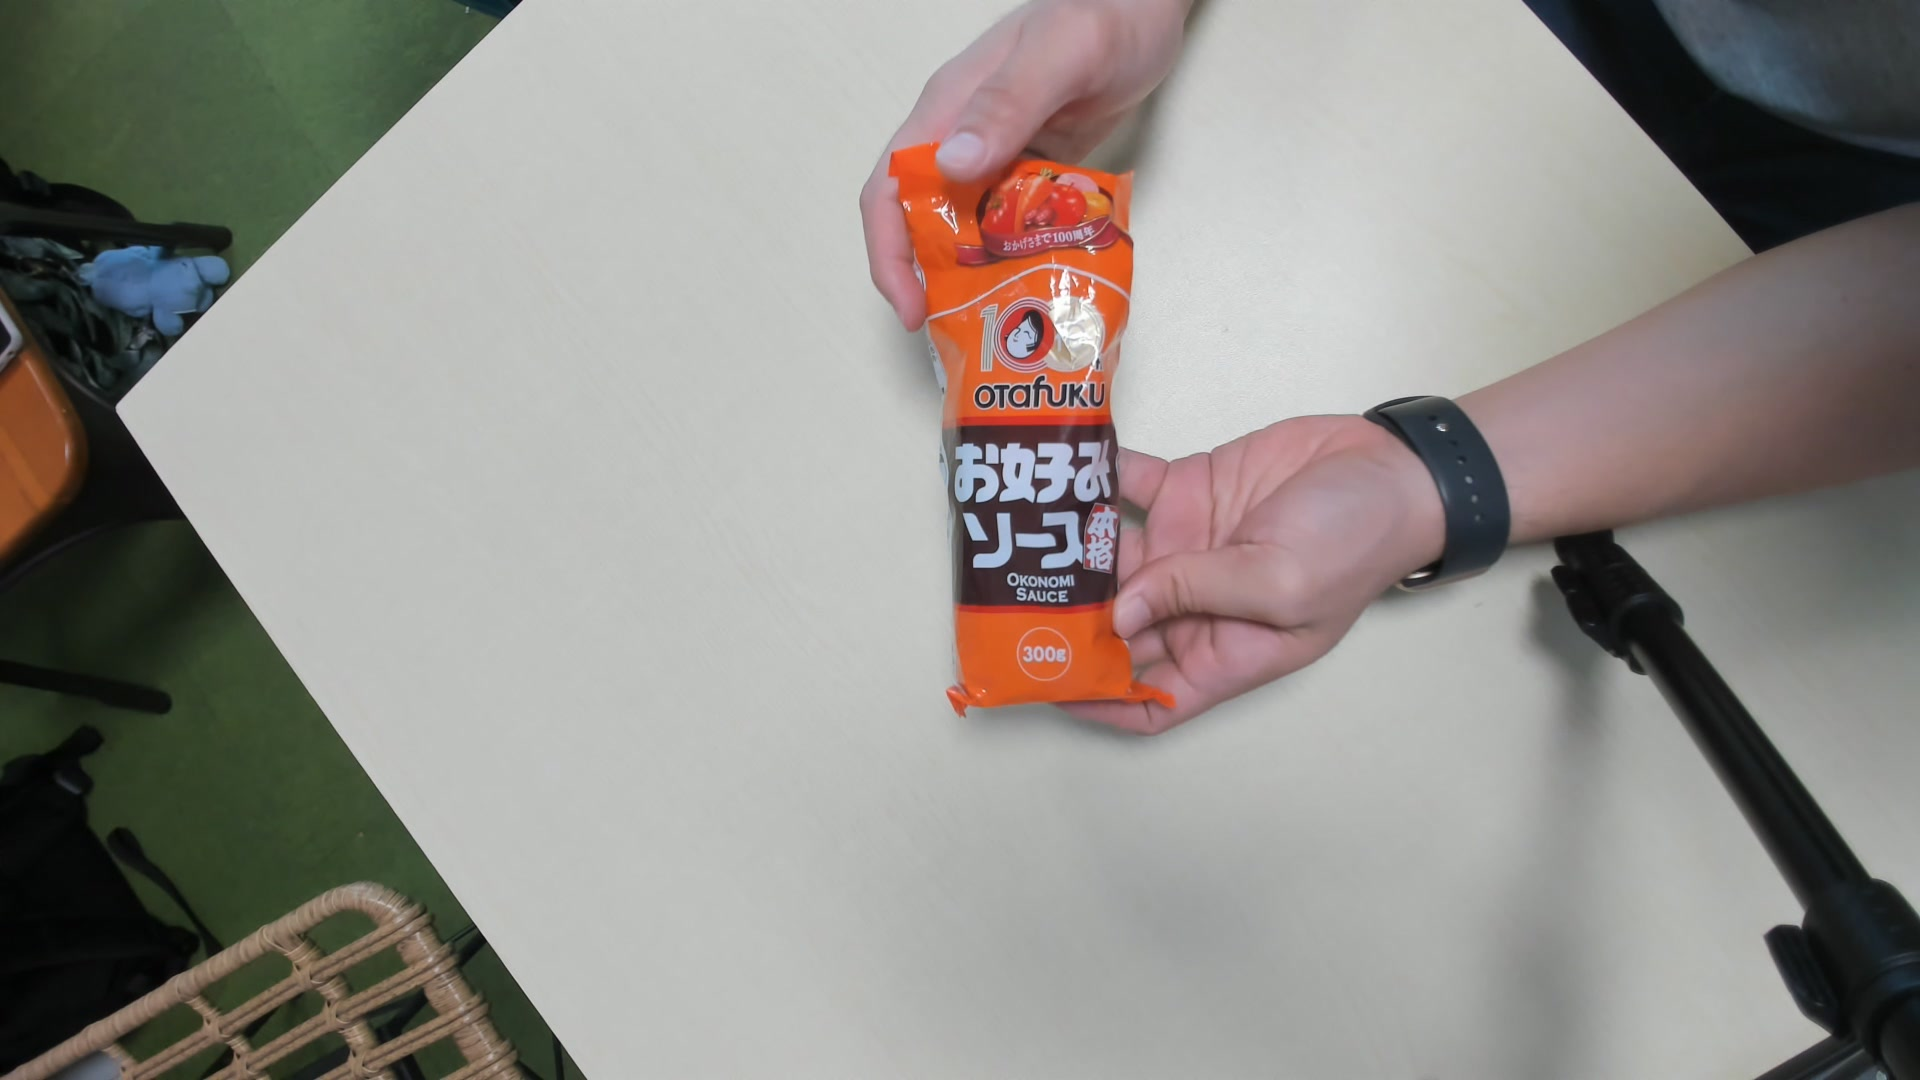OtherSauceDressing_300-399g_NonHalal_NonHealthy: (899, 141, 1159, 703)
